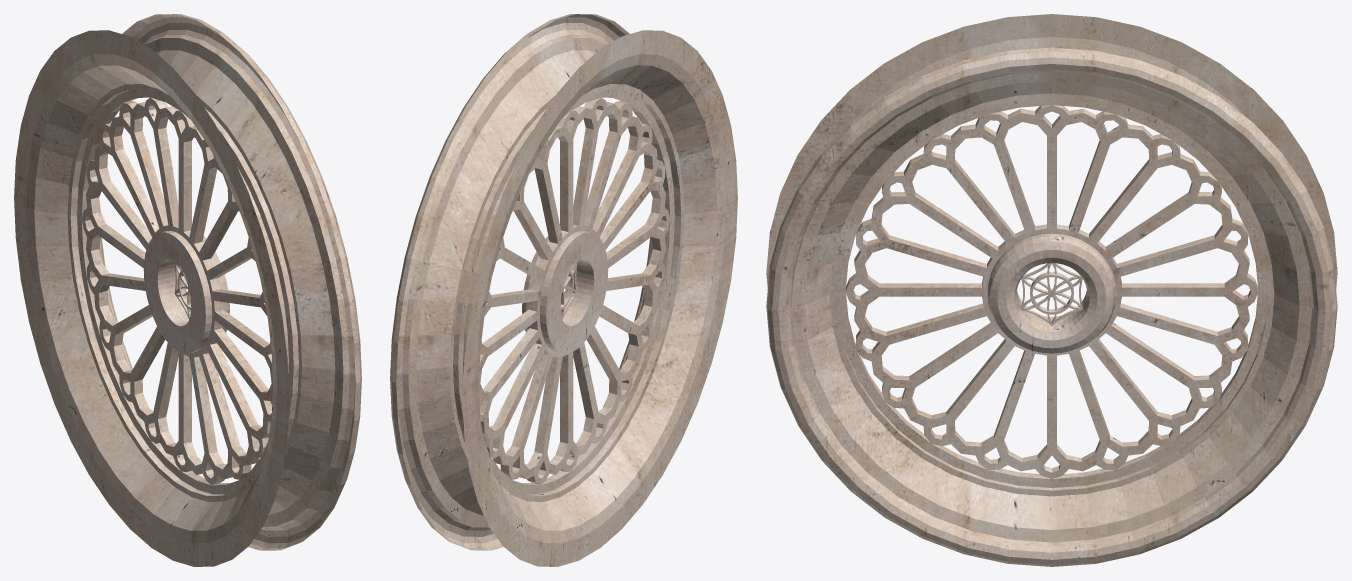
The model's file is rozeta.obj.
The picture shows the model from 3 angles, left to right: view 1: azimuth 30°, elevation 25°; view 2: azimuth 150°, elevation 25°; view 3: azimuth 270°, elevation 25°; orthographic projection. The views are drawn at different scales.
Size of the model in its own units: 0.73 by 4.52 by 4.52.
